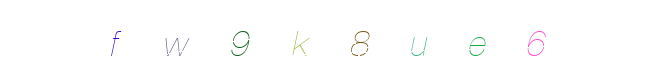6: (461, 0, 541, 80)
8: (295, 0, 375, 80)
9: (269, 0, 349, 80)
E: (328, 0, 408, 80)
F: (75, 0, 155, 80)
K: (286, 0, 366, 80)
U: (314, 0, 394, 80)
W: (255, 0, 335, 80)
